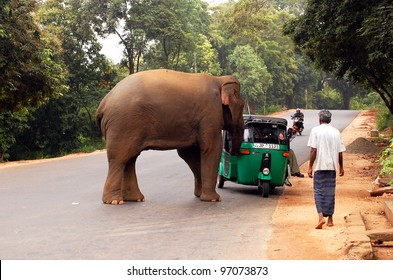motorbike: (290, 116, 304, 135)
threewheel: (218, 116, 289, 198)
